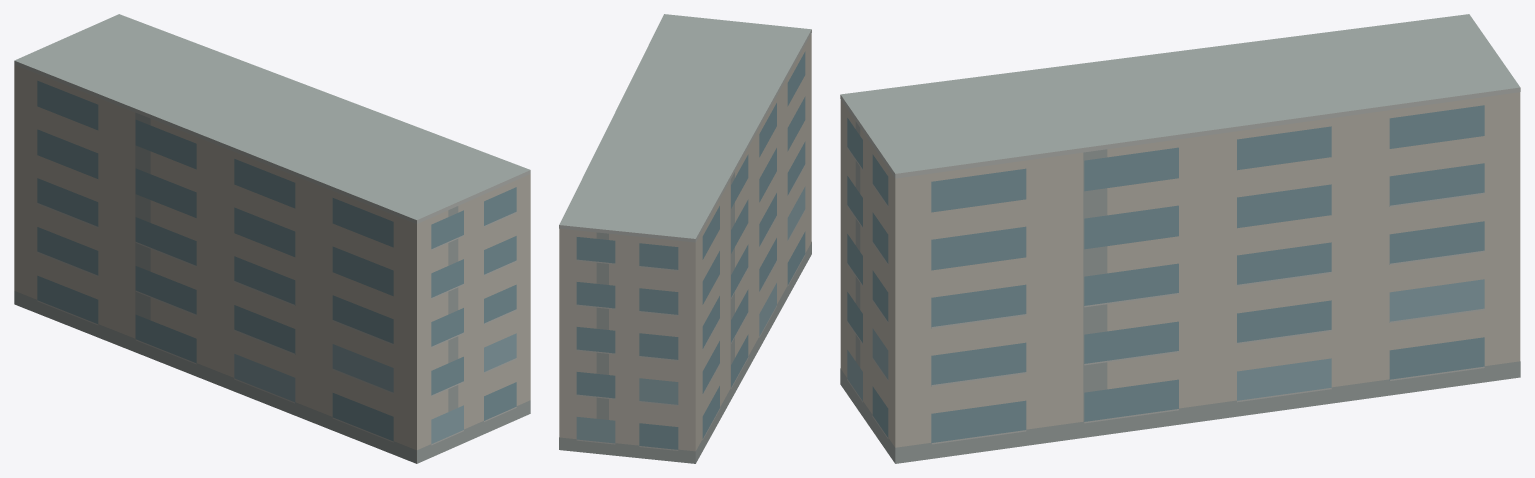
The model's file is residential-f4625aae-dd43-4e99-9997-9766f40b0e72.glb.
3 views of the same model, side by side, from view 1: azimuth 30°, elevation 25°; view 2: azimuth 150°, elevation 25°; view 3: azimuth 270°, elevation 25° (orthographic). The views are drawn at different scales.
Visible parts, largest first — view 1: residential-f4625aae-dd43-4e99-9997-9766f40b0e72.tmp; view 2: residential-f4625aae-dd43-4e99-9997-9766f40b0e72.tmp; view 3: residential-f4625aae-dd43-4e99-9997-9766f40b0e72.tmp.
Part boxes in pixels (x1=…): residential-f4625aae-dd43-4e99-9997-9766f40b0e72.tmp: x1=14, y1=14, x2=530, y2=463; residential-f4625aae-dd43-4e99-9997-9766f40b0e72.tmp: x1=559, y1=14, x2=811, y2=463; residential-f4625aae-dd43-4e99-9997-9766f40b0e72.tmp: x1=840, y1=14, x2=1520, y2=463.
Bounding box in the file's own units: 18.04 × 15.25 × 32.42.
